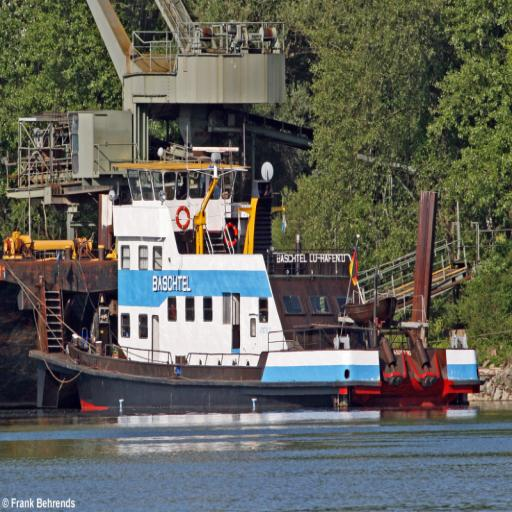tugboat: (26, 143, 490, 425)
